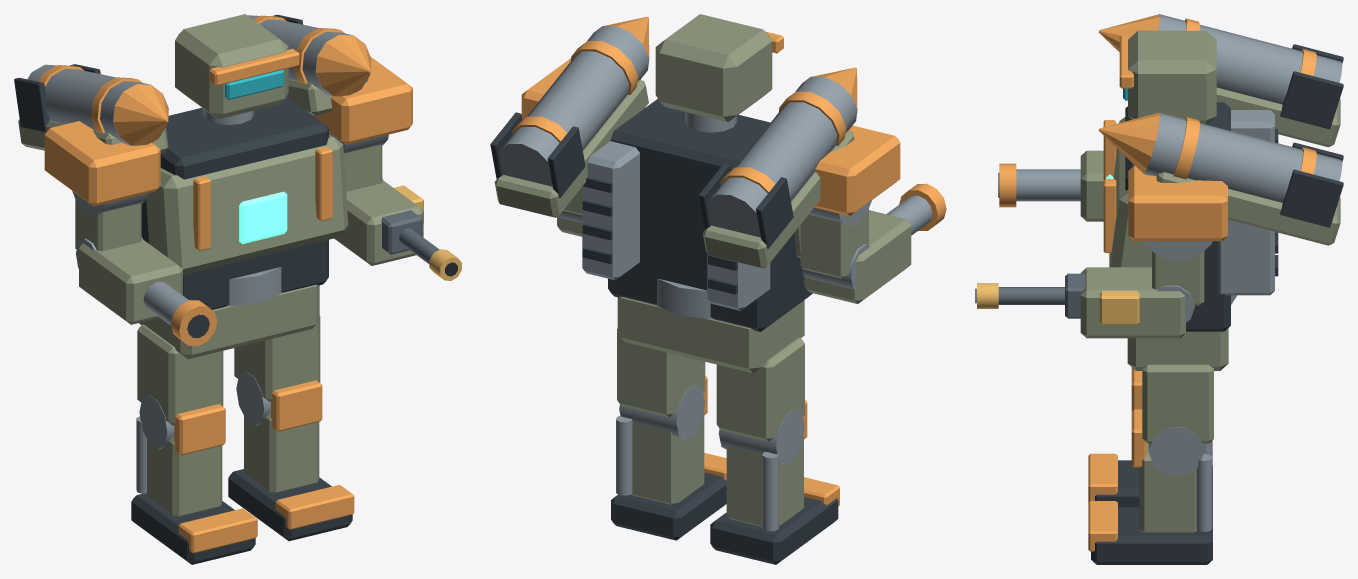
Rendered from boss-siege-mech.glb.
3 renders of one model, left to right at view 1: azimuth 30°, elevation 25°; view 2: azimuth 150°, elevation 25°; view 3: azimuth 270°, elevation 25°, orthographic. The views are drawn at different scales.
Visible parts, largest first — view 1: Sloped breastplate, Torso skeleton, Thigh armor, Thigh armor.001, Shoulder plate, Upper arm, Pelvic armor, Upper arm.001, Shoulder plate.001, Hip bearing, Hip bearing.001, Chest armor rib (+17 smaller); view 2: Torso skeleton, Thigh armor, Sloped breastplate, Thigh armor.001, Missile casing.001, Missile casing, Back power unit, Pelvic armor, Upper arm, Shoulder plate, Armored foot, Armored foot.001 (+14 smaller); view 3: Sloped breastplate, Thigh armor.001, Missile casing.001, Upper arm.001, Shoulder plate.001, Missile casing, Back power unit, Armored foot.001, Knee servo.001, Canister band.002, Pelvic armor, Launcher cradle.001 (+15 smaller).
Part boxes in pixels (<box>): Sloped breastplate: <box>146,14,348,274</box>; Torso skeleton: <box>141,96,328,309</box>; Thigh armor: <box>137,324,223,517</box>; Thigh armor.001: <box>234,316,320,493</box>; Shoulder plate: <box>44,121,217,346</box>; Upper arm: <box>75,196,182,324</box>; Pelvic armor: <box>139,284,319,359</box>; Upper arm.001: <box>334,144,423,265</box>; Shoulder plate.001: <box>312,56,412,144</box>; Hip bearing: <box>174,404,257,553</box>; Hip bearing.001: <box>271,380,354,529</box>; Chest armor rib: <box>193,48,332,250</box>; Torso skeleton: <box>582,99,812,331</box>; Thigh armor: <box>716,337,804,526</box>; Sloped breastplate: <box>655,14,800,258</box>; Thigh armor.001: <box>617,329,705,504</box>; Missile casing.001: <box>499,26,649,186</box>; Missile casing: <box>707,76,857,237</box>; Back power unit: <box>582,112,770,310</box>; Pelvic armor: <box>617,296,804,373</box>; Upper arm: <box>800,209,911,303</box>; Shoulder plate: <box>814,125,946,231</box>; Armored foot: <box>710,497,838,564</box>; Armored foot.001: <box>611,472,726,540</box>; Sloped breastplate: <box>1109,30,1216,267</box>; Thigh armor.001: <box>1139,364,1213,532</box>; Missile casing.001: <box>1144,112,1342,202</box>; Upper arm.001: <box>1080,241,1204,338</box>; Shoulder plate.001: <box>1128,165,1227,241</box>; Missile casing: <box>1158,14,1342,104</box>; Back power unit: <box>1218,110,1274,295</box>; Armored foot.001: <box>1091,507,1212,564</box>; Knee servo.001: <box>1148,427,1212,531</box>; Canister band.002: <box>1098,112,1316,179</box>; Pelvic armor: <box>1127,328,1228,370</box>; Launcher cradle.001: <box>1156,172,1340,245</box>.
Bounding box in the file's own units: 4.42 × 6.31 × 4.37.
